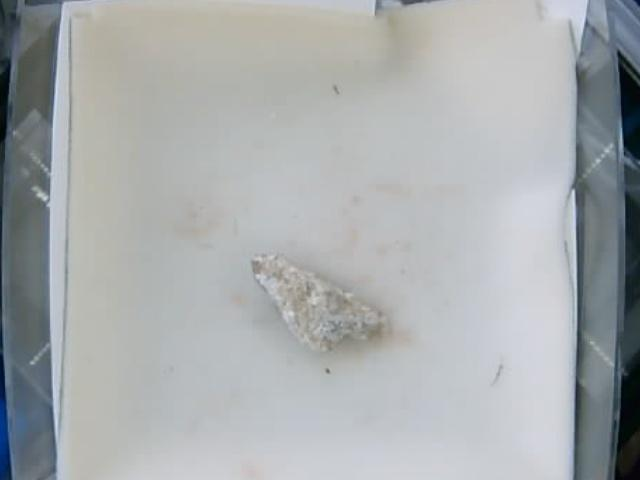Brisk: (251, 251, 375, 349)
